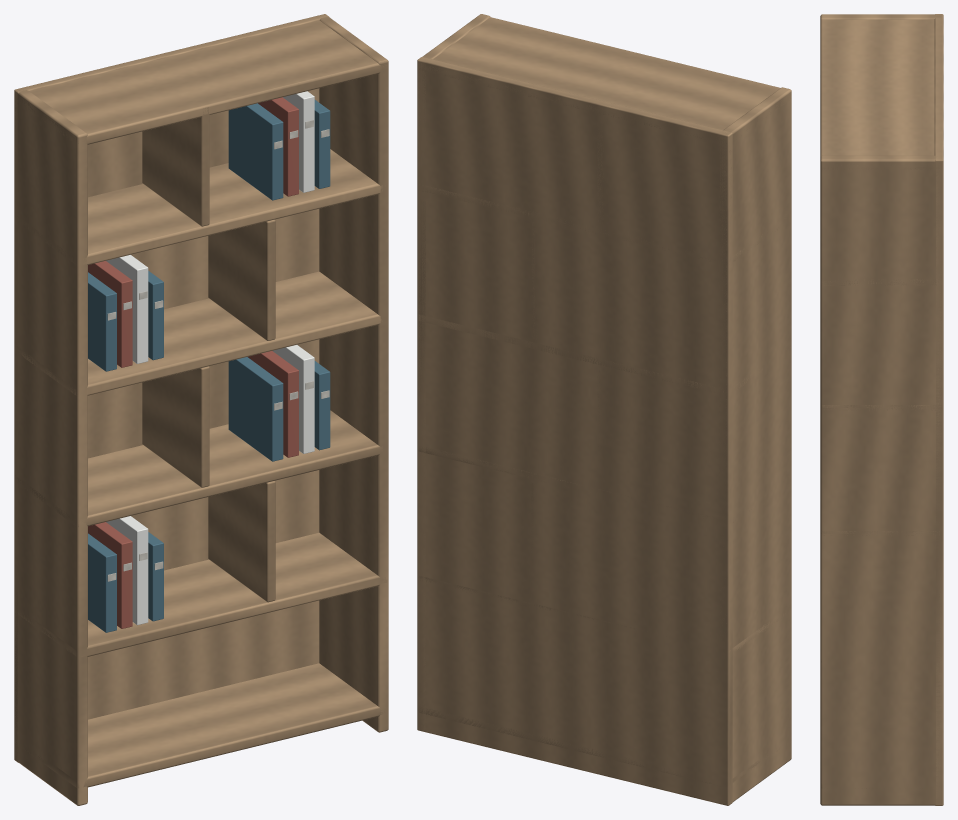
Rendered from bookshelf.glb.
3 renders of one model, left to right at view 1: azimuth 30°, elevation 25°; view 2: azimuth 150°, elevation 25°; view 3: azimuth 270°, elevation 25°, orthographic. The views are drawn at different scales.
Parts seen in each view (by area): view 1: 家具_bookshelf; view 2: 家具_bookshelf; view 3: 家具_bookshelf.
Part boxes in pixels (bbox=[...]): 家具_bookshelf: bbox=[14, 14, 388, 805]; 家具_bookshelf: bbox=[417, 14, 791, 805]; 家具_bookshelf: bbox=[820, 14, 943, 805].
Size of the model in its own units: 0.9 by 1.85 by 0.32.
5 materials, 2 textured.
